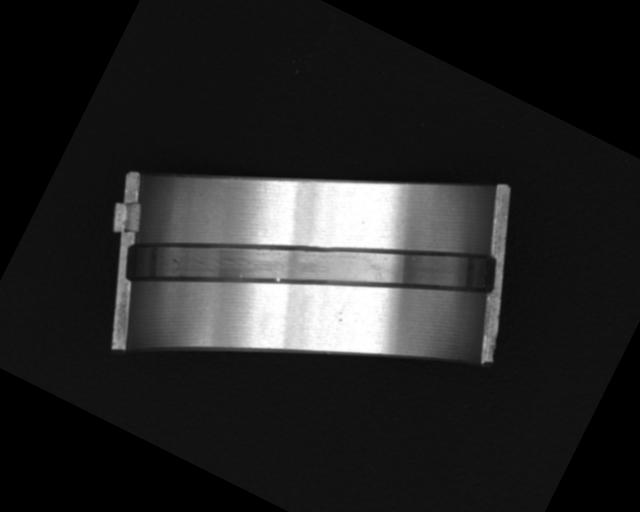gap: (117, 108, 507, 425)
